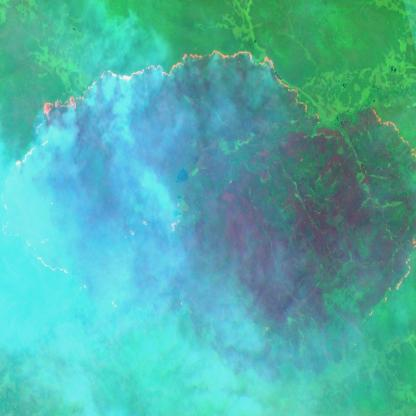fire: (0, 49, 416, 322)
